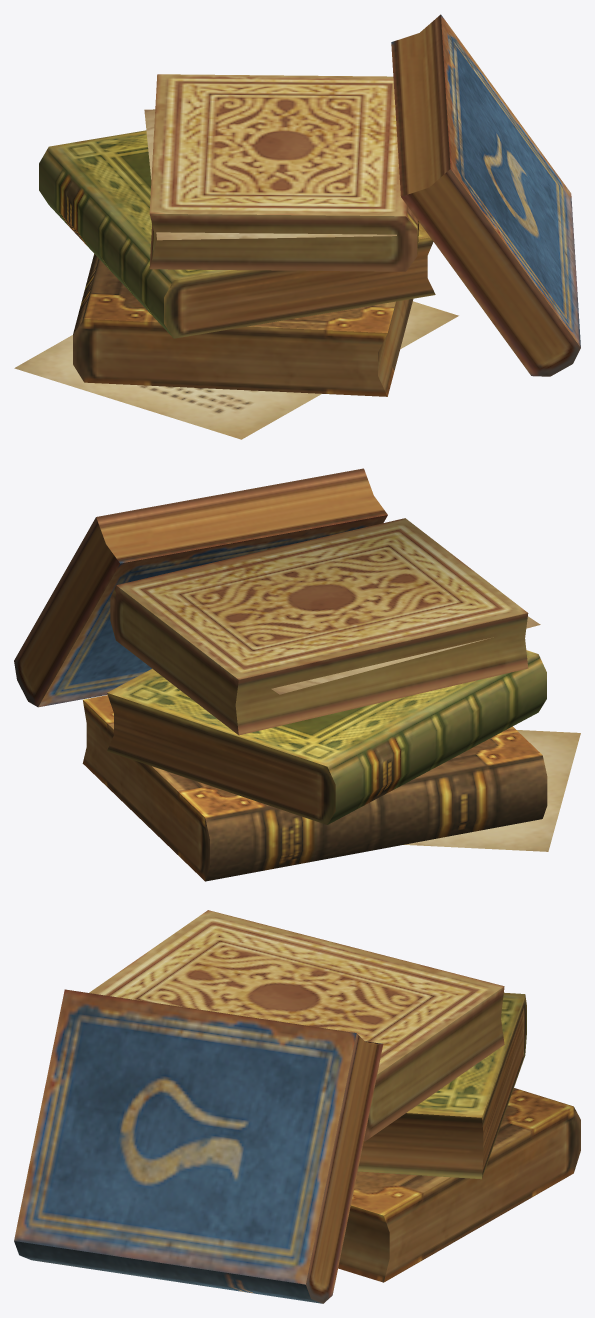
File: Books_Preset_05.FBX
3 views of the same model, one above another, from view 1: azimuth 30°, elevation 25°; view 2: azimuth 150°, elevation 25°; view 3: azimuth 270°, elevation 25° (orthographic). The views are drawn at different scales.
Parts seen in each view (by area): view 1: Books_Preset_05; view 2: Books_Preset_05; view 3: Books_Preset_05.
Part boxes in pixels (left/top/right/bottom): Books_Preset_05: left=14, top=14, right=580, bottom=439; Books_Preset_05: left=14, top=468, right=580, bottom=881; Books_Preset_05: left=14, top=910, right=580, bottom=1303.
Bounding box in the file's own units: 52.99 × 45.33 × 22.09.
